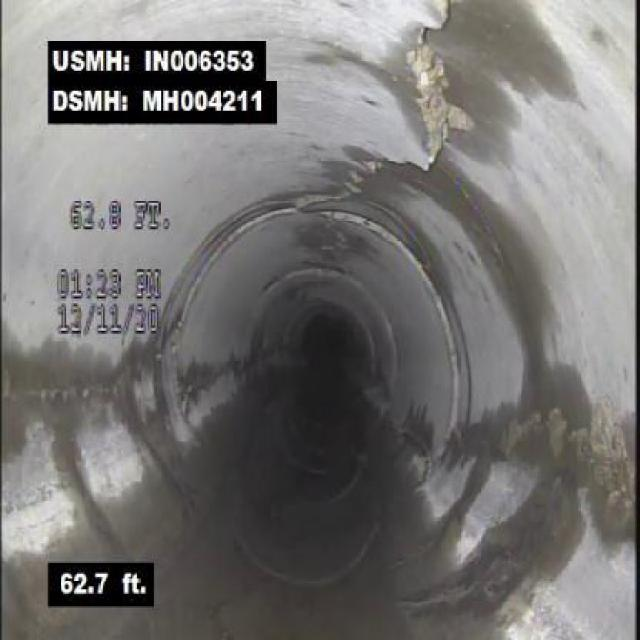Buckling: (400, 0, 460, 177), (291, 155, 392, 214)
Crack: (541, 397, 637, 474), (11, 376, 114, 406)
